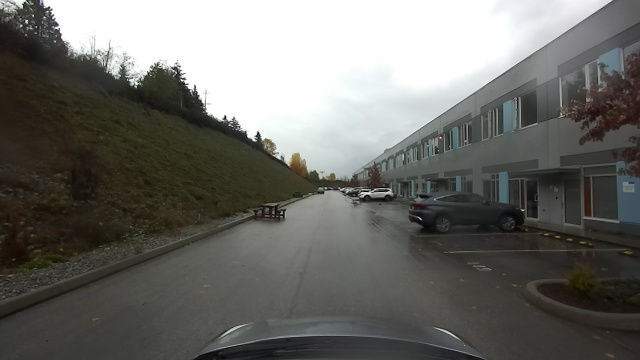car: (408, 190, 528, 236), (358, 187, 396, 202), (315, 187, 325, 194)
